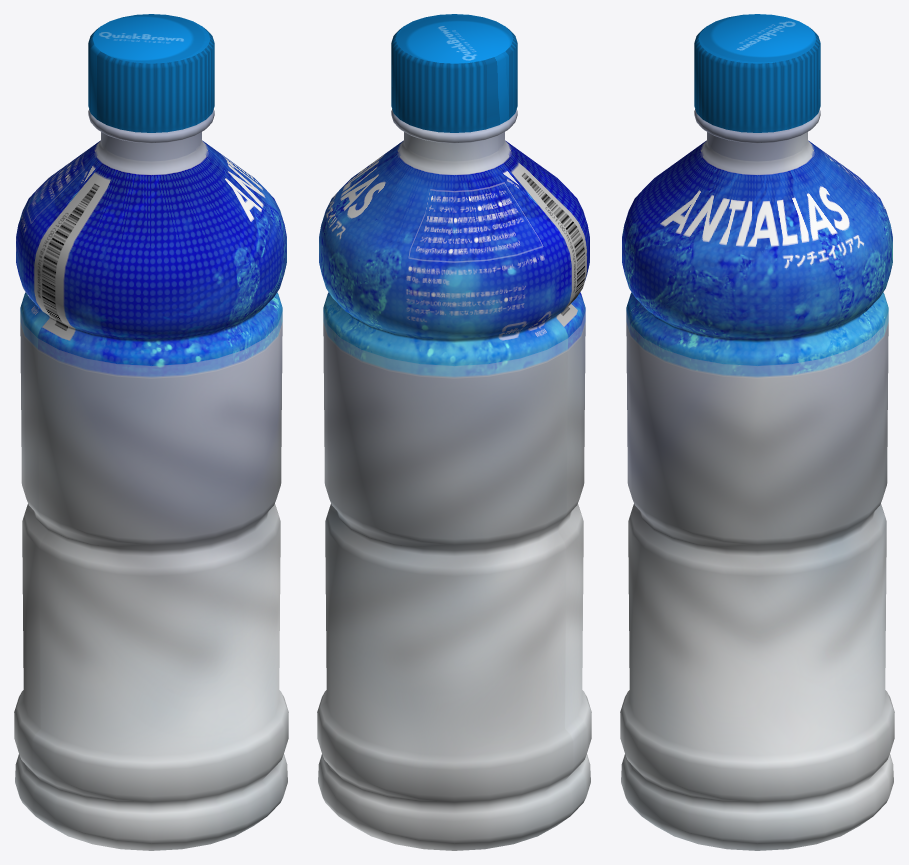
Rendered from 03_GravityTea.fbx.
3 views of the same model, side by side, from view 1: azimuth 30°, elevation 25°; view 2: azimuth 150°, elevation 25°; view 3: azimuth 270°, elevation 25° (orthographic).
Visible parts, largest first — view 1: 03_GravityTea; view 2: 03_GravityTea; view 3: 03_GravityTea.
Boxes of the visible parts, x1,y1,x2,y2 form: 03_GravityTea: (14,14,288,850); 03_GravityTea: (317,14,591,850); 03_GravityTea: (620,14,894,850).
Bounding box in the file's own units: 0.0665 × 0.2042 × 0.0665.
